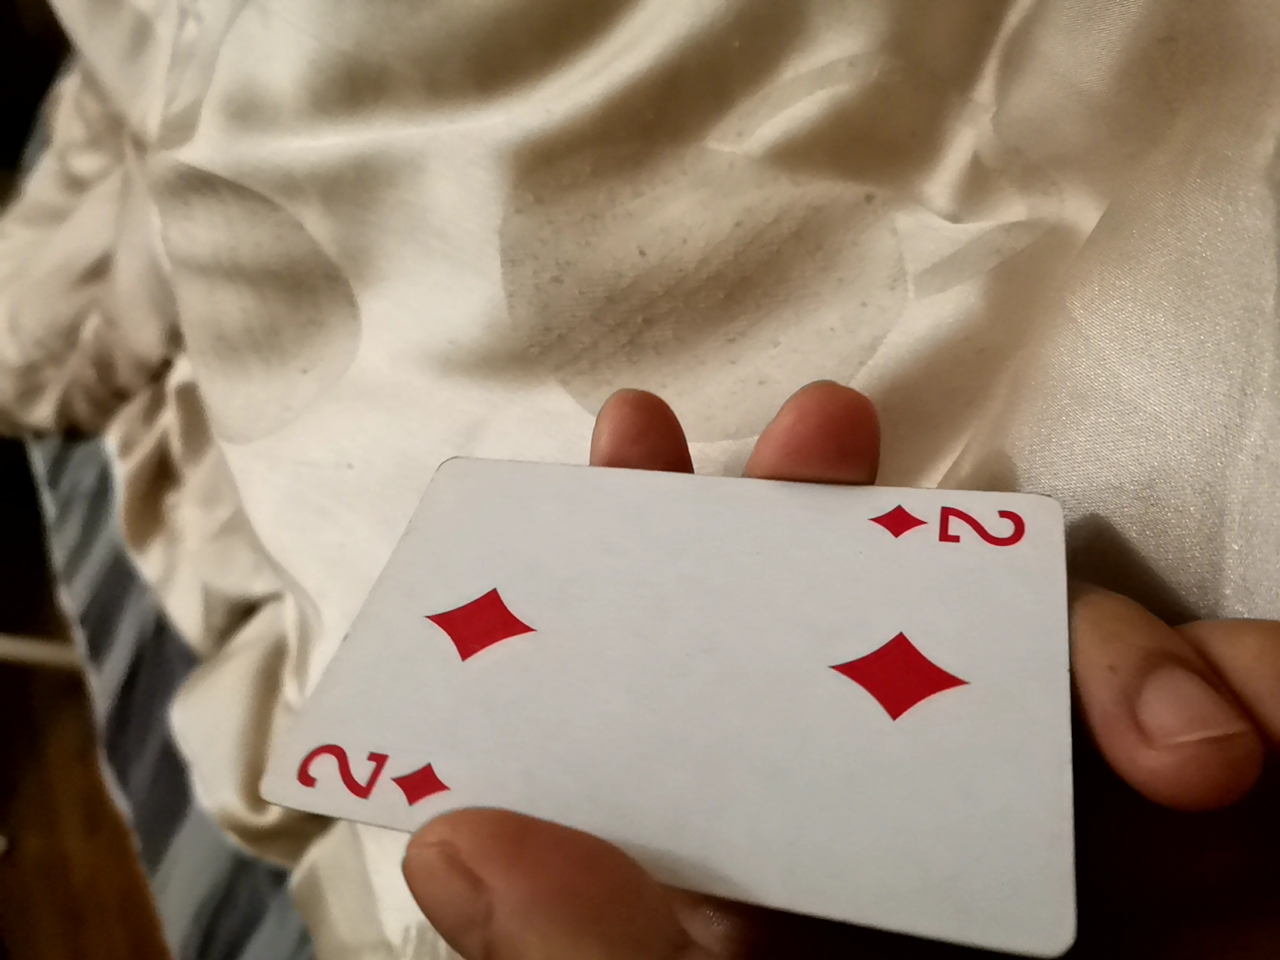fk 2: (221, 399, 1058, 956)
